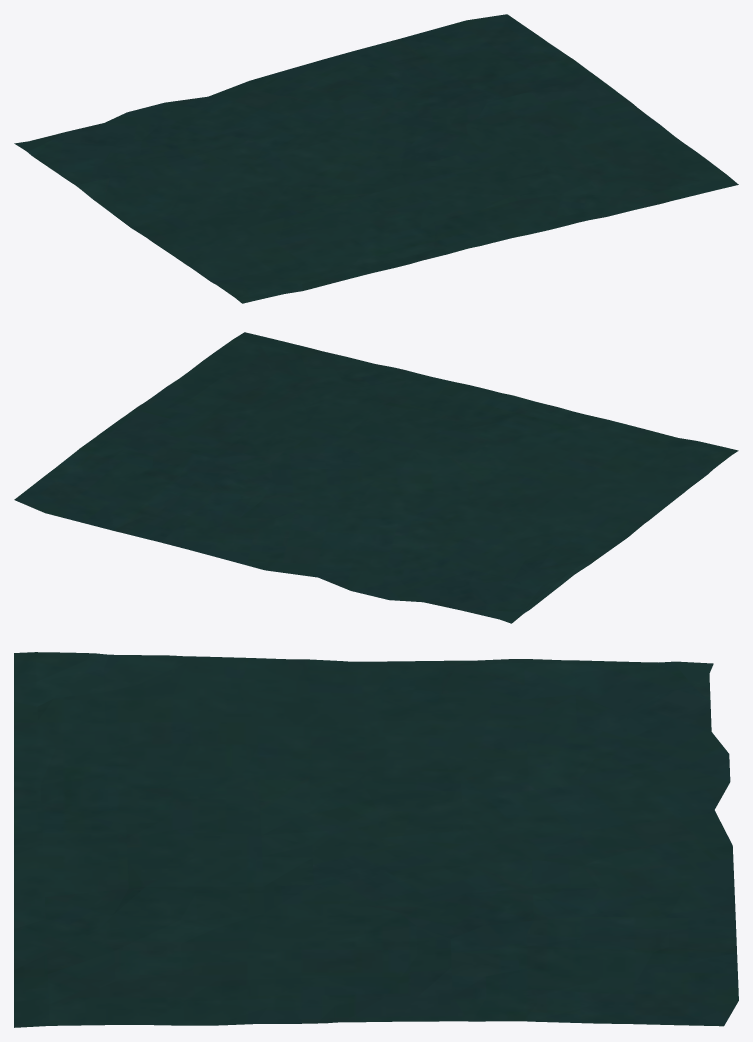
The picture shows the model from 3 angles, top to bottom: view 1: azimuth 30°, elevation 25°; view 2: azimuth 150°, elevation 25°; view 3: azimuth 270°, elevation 25°; orthographic projection. The views are drawn at different scales.
Bounding box in the file's own units: 52.22 × 1.1 × 43.08.
2 materials, 2 textured.
